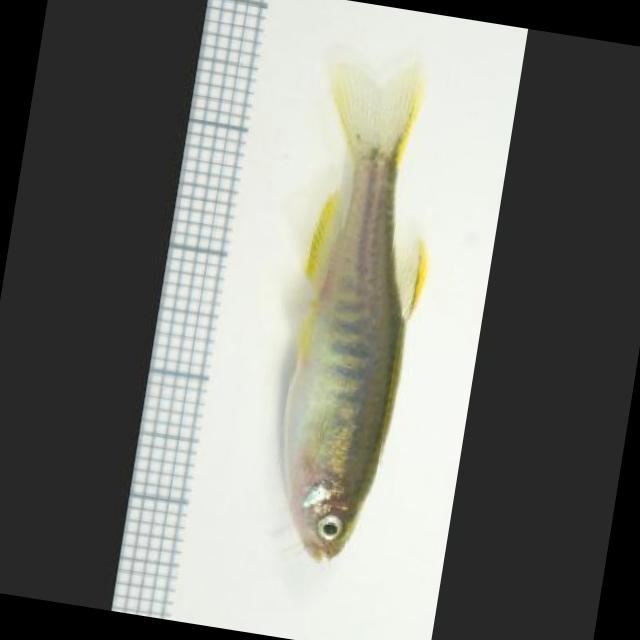ZebraFish: (248, 44, 464, 573)
